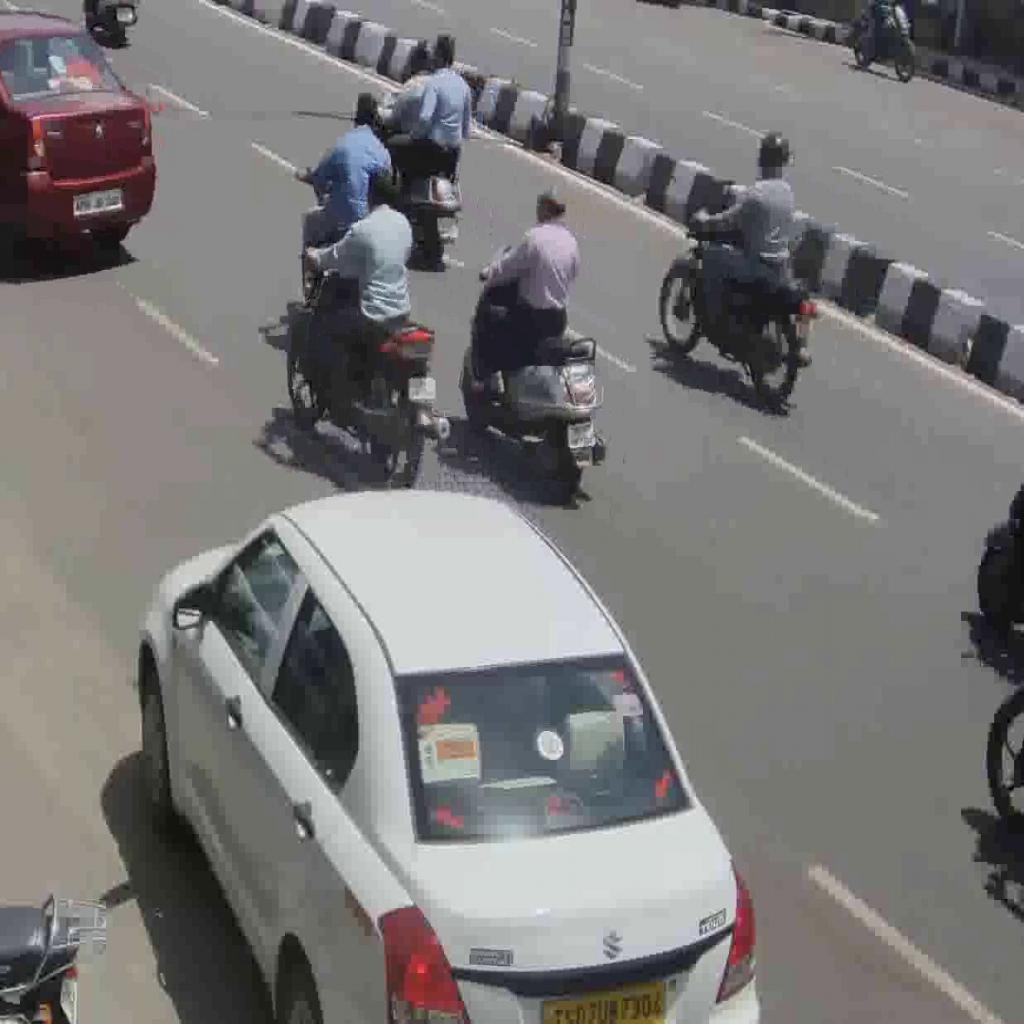helmet: (286, 236, 451, 486), (460, 243, 612, 497), (658, 206, 814, 403), (364, 86, 465, 262)
